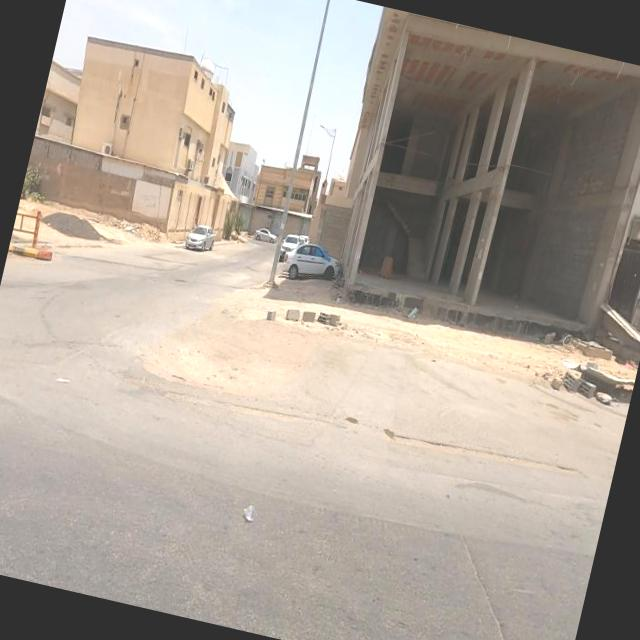debris: (529, 320, 616, 428), (206, 465, 296, 561), (364, 266, 448, 361), (302, 250, 376, 335), (526, 307, 606, 381), (88, 193, 152, 268)
